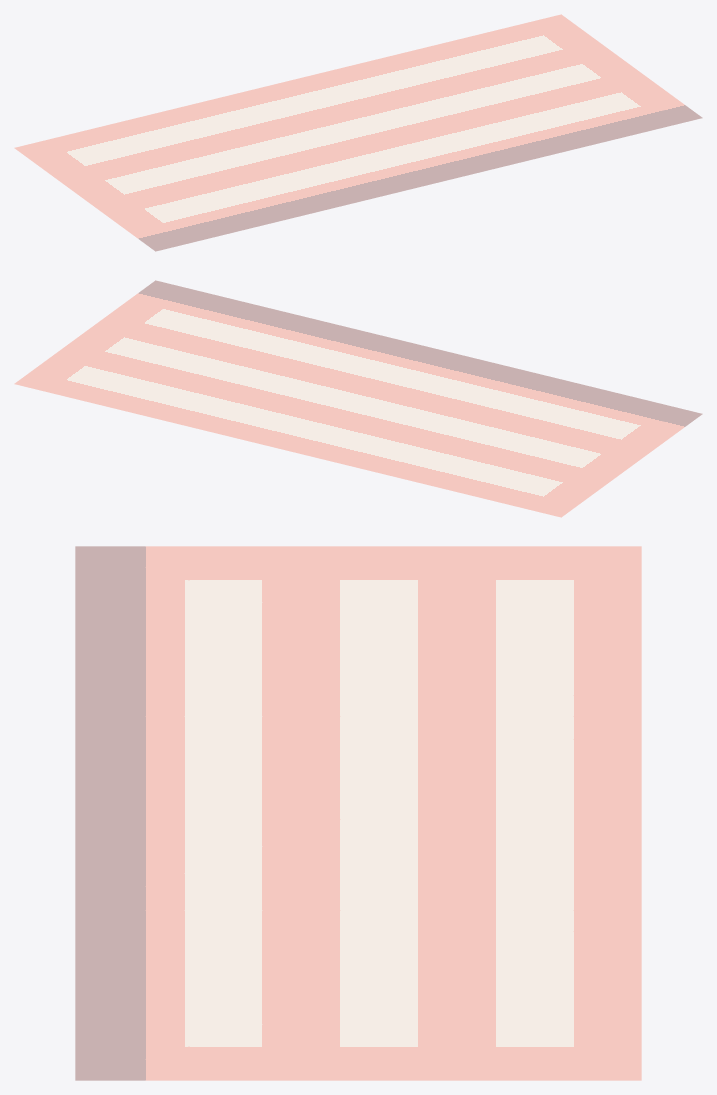
3 views of the same model, one above another, from view 1: azimuth 30°, elevation 25°; view 2: azimuth 150°, elevation 25°; view 3: azimuth 270°, elevation 25° (orthographic). The views are drawn at different scales.
Bounding box in the file's own units: 2.75 × 0 × 1.23.
Materials: 1 (1 with a texture image).
